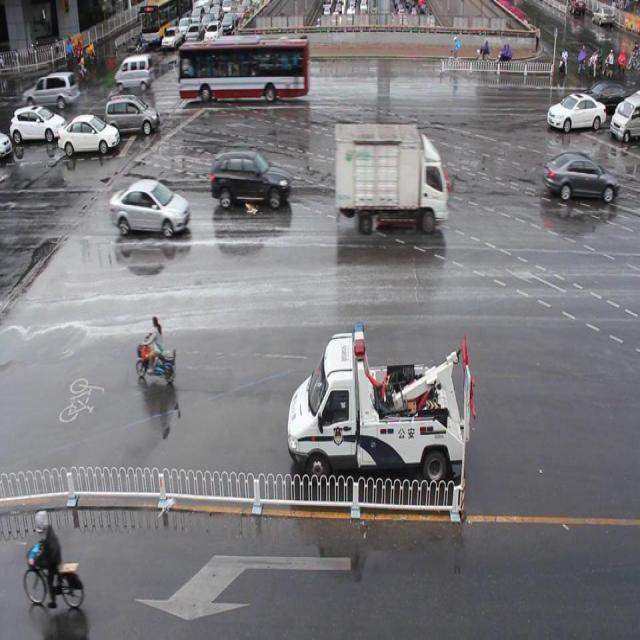BigCar: (335, 112, 456, 240), (179, 38, 312, 105), (142, 0, 165, 51)
car: (287, 324, 465, 472), (208, 147, 291, 229), (546, 146, 620, 222), (110, 180, 194, 243), (547, 92, 609, 138), (106, 94, 161, 143), (64, 118, 122, 158), (9, 107, 62, 148), (24, 72, 77, 110), (115, 52, 157, 94), (610, 92, 639, 147), (222, 13, 237, 32)
